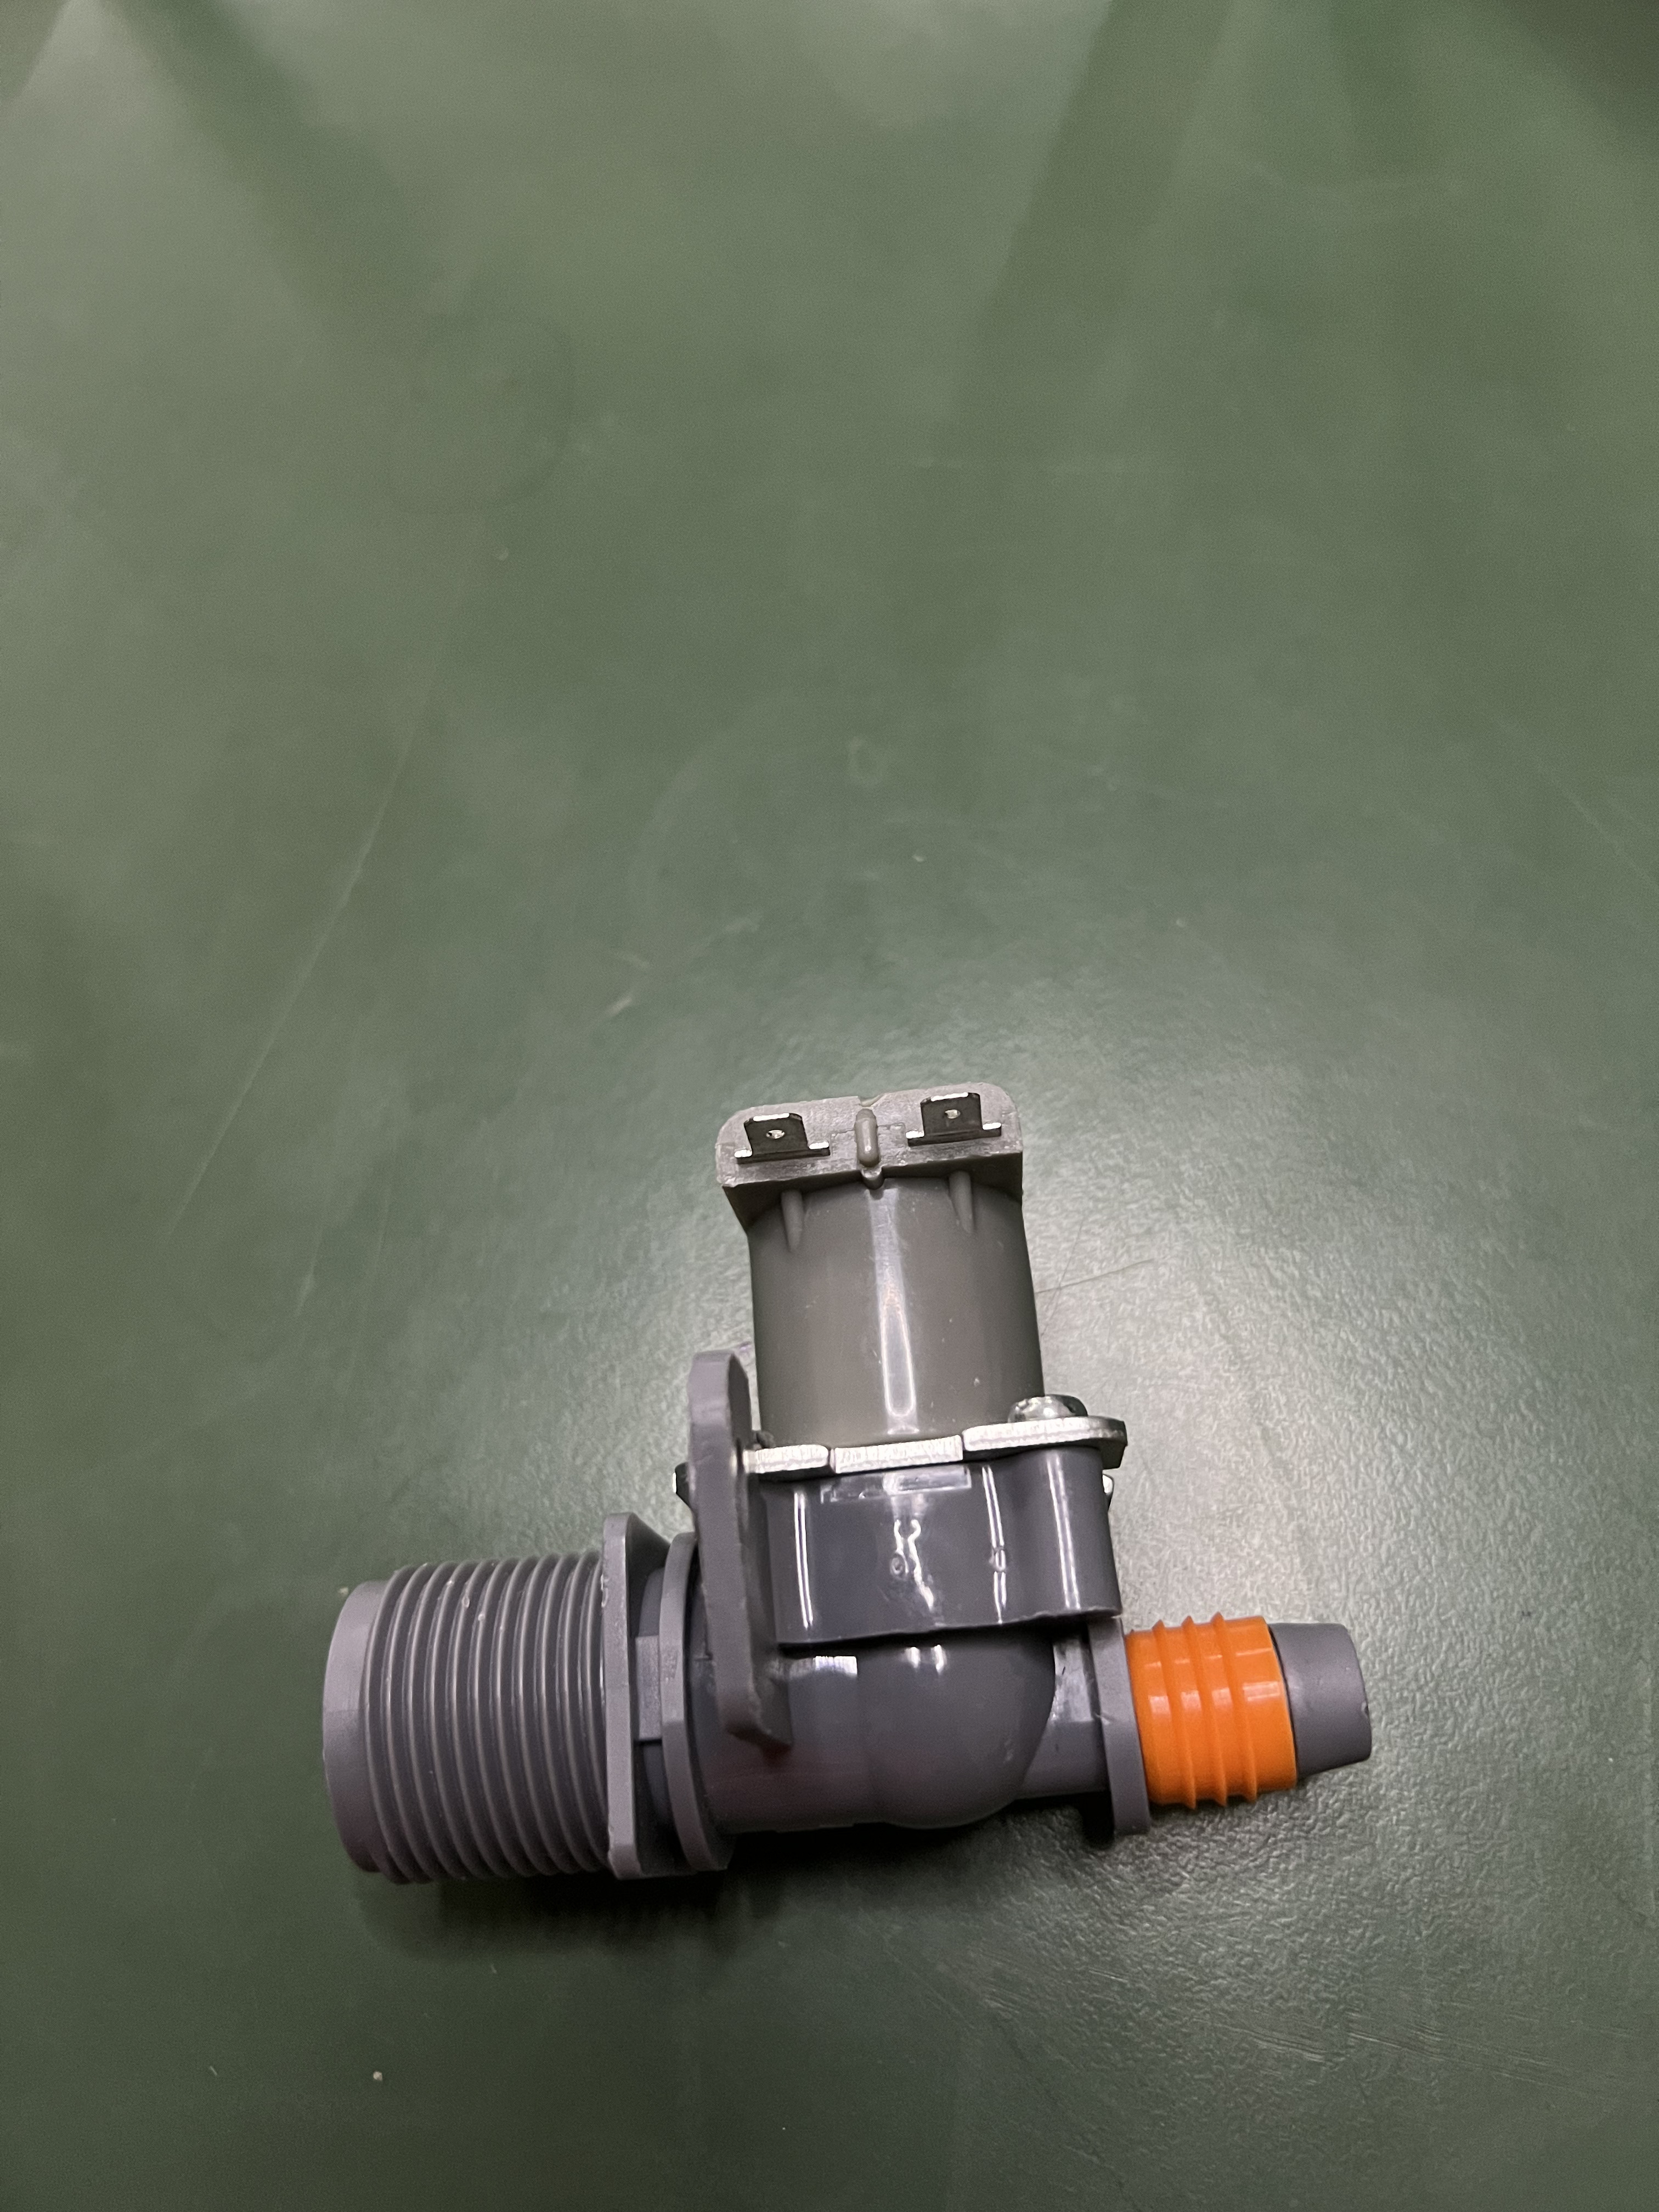inlet_valves: (289, 1075, 1446, 1890)
